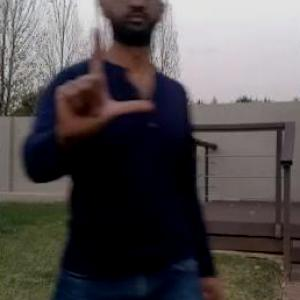land_hand: (51, 21, 155, 146)
